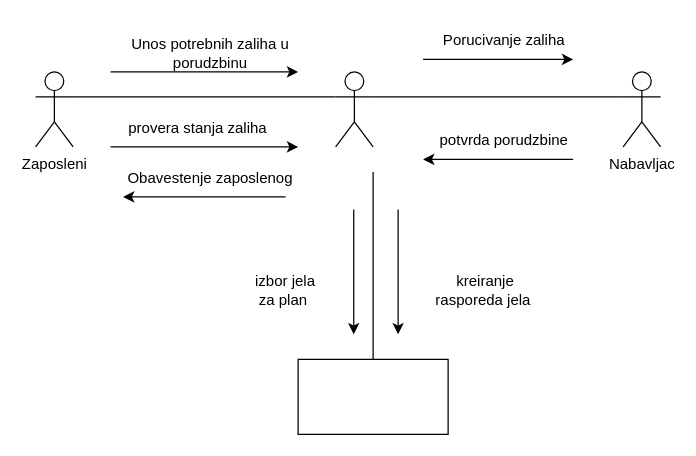
This 696x456 diagram has some shape labels left out. Each missing label, with the centre of its shape:
`sistem: the point at 353,109
Upravljanje restoranom: the point at 372,396
